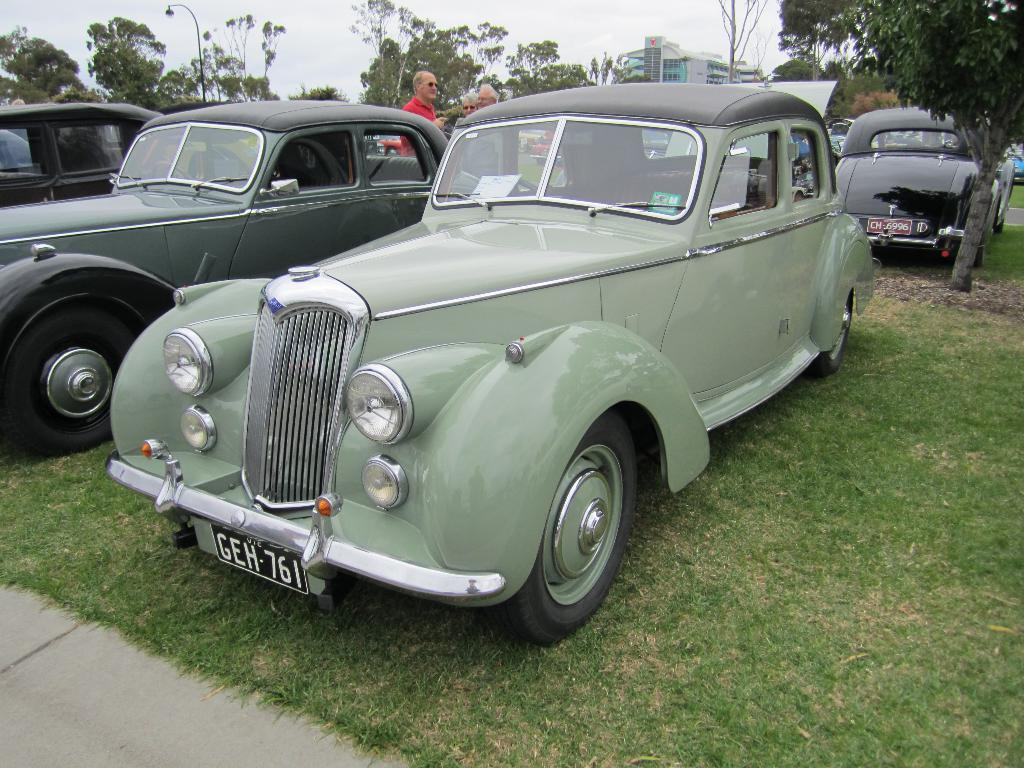Car: (0, 76, 1023, 645)
